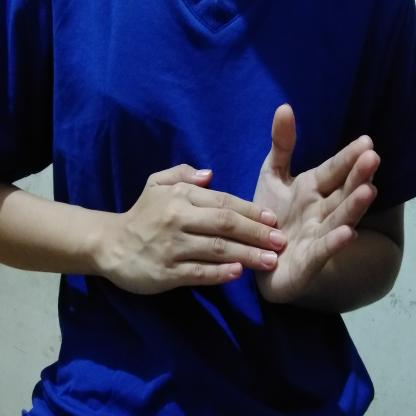mother: (96, 98, 388, 310)
